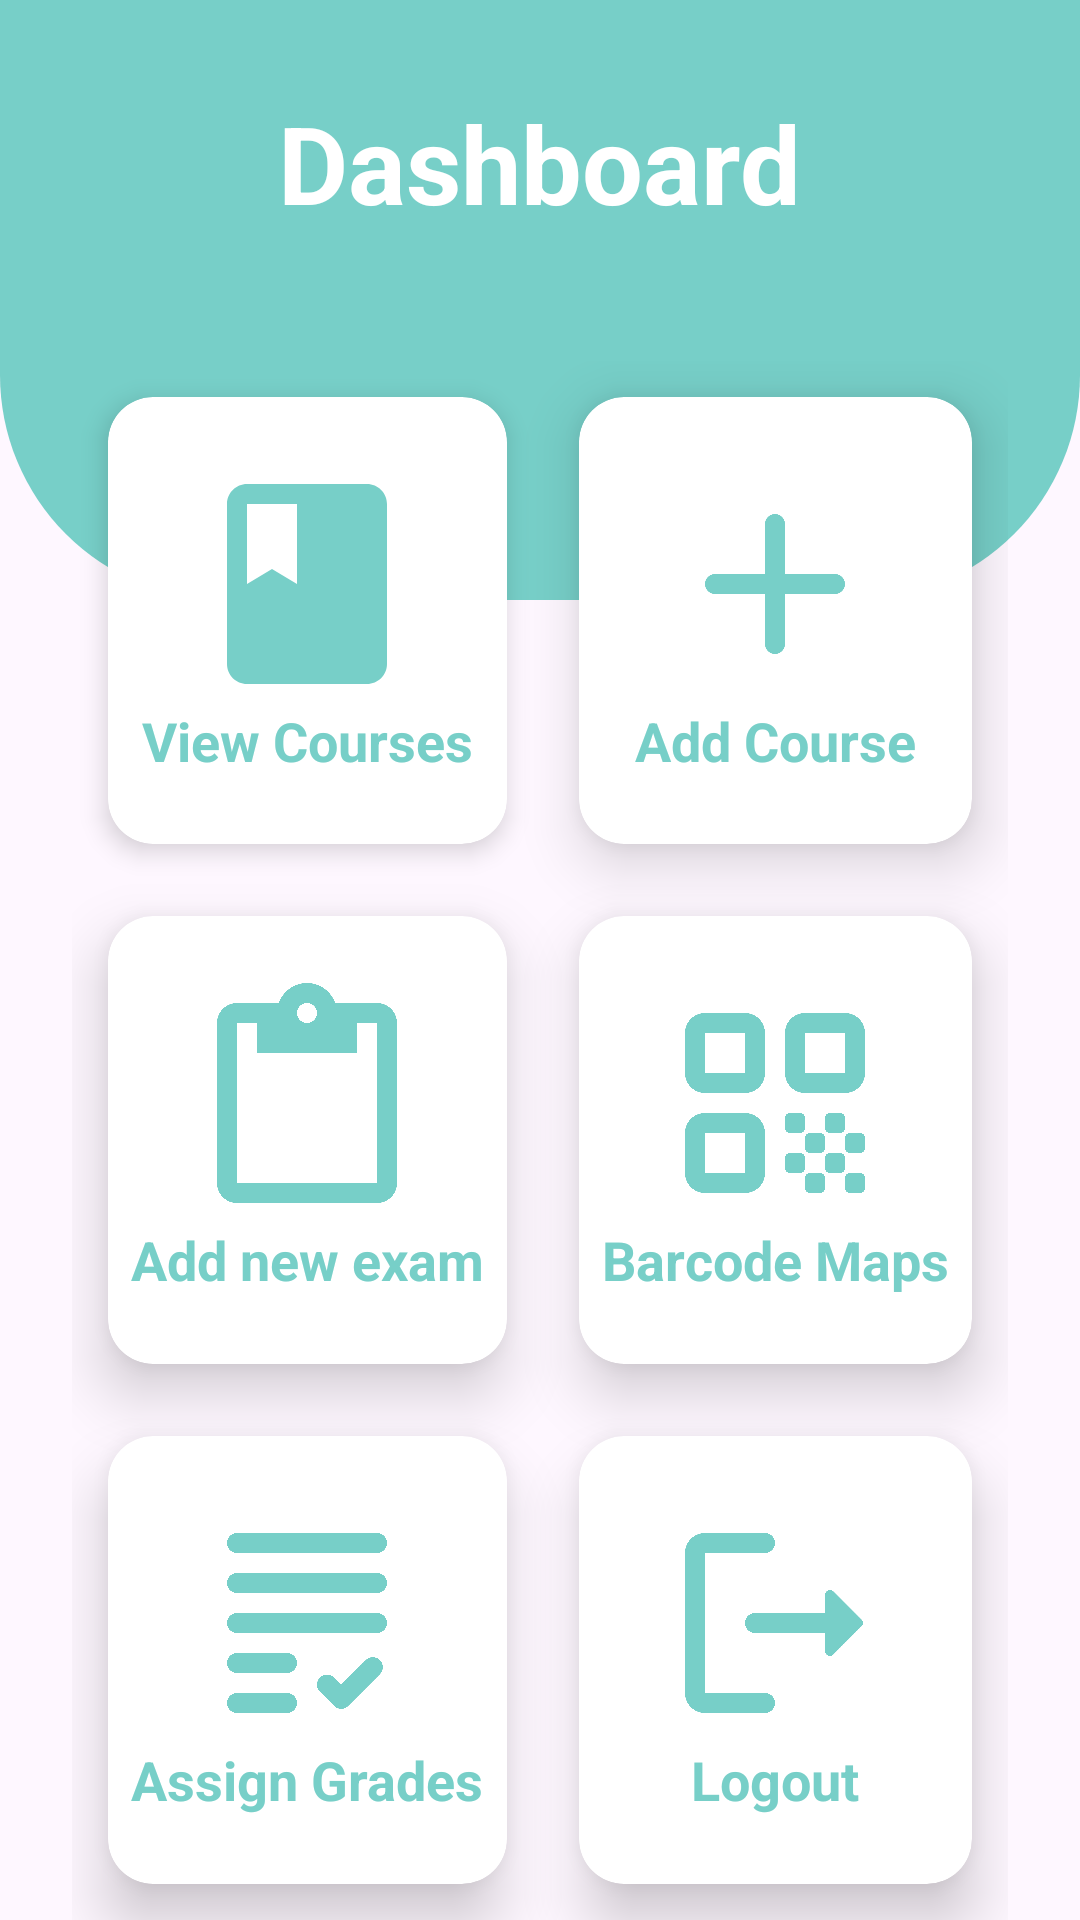

Screen size 1080x1920. Icon name, then its center in pixels as (x=x, y=y):
class: (x=307, y=584)
content paste: (x=307, y=1093)
grading: (x=307, y=1623)
qr code: (x=775, y=1103)
